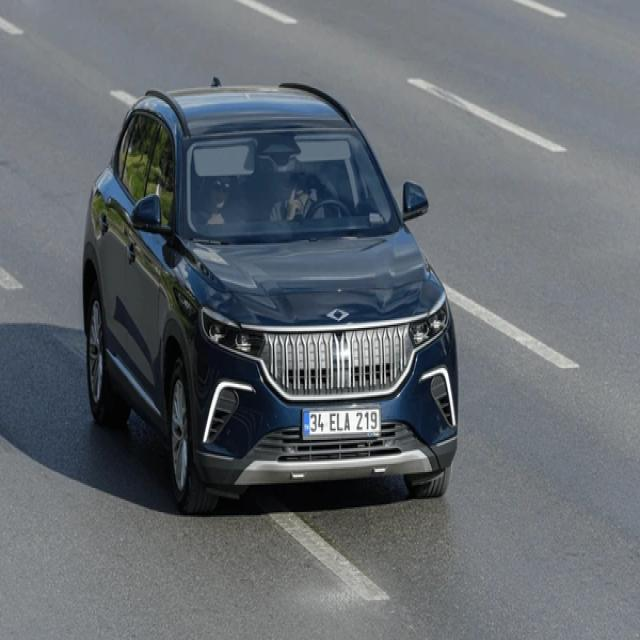togg: (326, 306, 348, 324)
